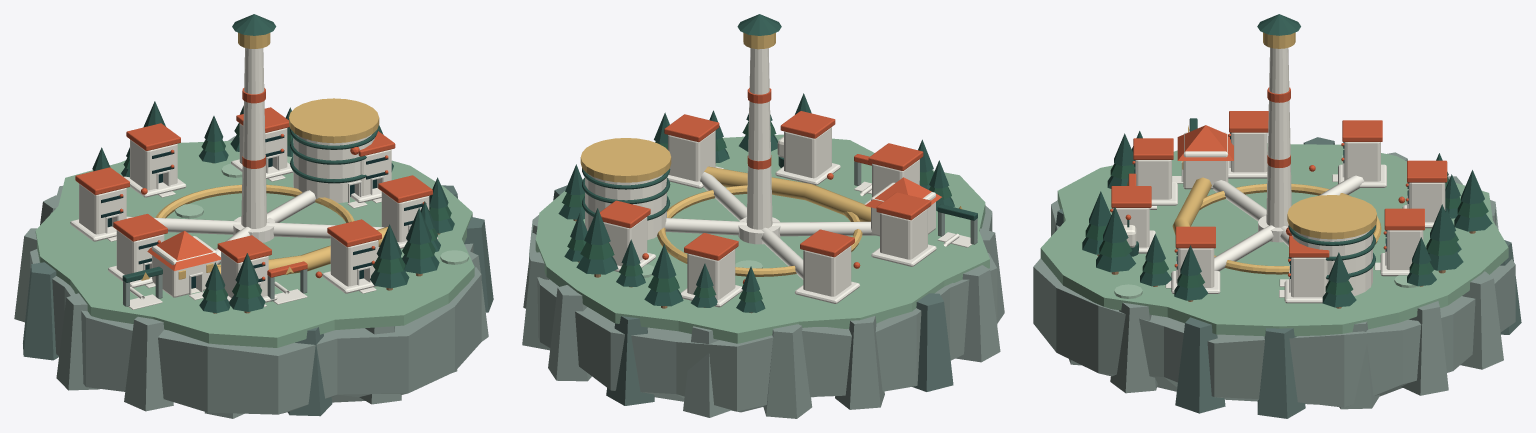
The model's file is chapter-16.glb.
3 views of the same model, side by side, from view 1: azimuth 30°, elevation 25°; view 2: azimuth 150°, elevation 25°; view 3: azimuth 270°, elevation 25° (orthographic).
Parts seen in each view (by area): view 1: terrain, rock_base, beacon, vault_cap_0, cliff_facet_10, landmark_replicas_0, cliff_facet_08, cliff_facet_09, server_2, server_6, server_3, landmark_ingress (+37 smaller); view 2: terrain, rock_base, beacon, cliff_facet_06, vault_cap_0, cliff_facet_07, cliff_facet_08, cliff_facet_09, cliff_facet_03, landmark_queue, landmark_replicas_0, server_3 (+36 smaller); view 3: terrain, rock_base, beacon, vault_cap_0, cliff_facet_00, cliff_facet_16, cliff_facet_03, cliff_facet_02, cliff_facet_15, landmark_replicas_0, horizon_ring, roof_ingress (+34 smaller).
Boxes of the visible parts, x1,y1,x2,y2 form: terrain: (35,141,474,347); rock_base: (30,186,481,414); beacon: (241,48,266,228); vault_cap_0: (289,98,379,143); cliff_facet_10: (124,316,173,411); landmark_replicas_0: (293,134,374,202); cliff_facet_08: (23,262,58,360); cliff_facet_09: (56,293,99,390); server_2: (130,139,177,190); server_6: (330,235,378,286); server_3: (79,183,126,234); landmark_ingress: (152,236,216,297); terrain: (535,134,989,343); rock_base: (529,205,997,412); beacon: (746,48,772,229); cliff_facet_06: (763,324,812,418); vault_cap_0: (580,138,671,182); cliff_facet_07: (835,316,884,409); cliff_facet_08: (912,293,953,391); cliff_facet_09: (955,265,1000,362); cliff_facet_03: (548,285,591,381); landmark_queue: (704,166,870,221); landmark_replicas_0: (585,174,666,239); server_3: (803,246,851,296); terrain: (1040,143,1508,336); rock_base: (1033,200,1515,407); beacon: (1266,47,1291,227); vault_cap_0: (1287,195,1376,239); cliff_facet_00: (1257,328,1305,418); cliff_facet_16: (1175,317,1225,413); cliff_facet_03: (1460,271,1503,369); cliff_facet_02: (1401,301,1448,395); cliff_facet_15: (1110,302,1157,393); landmark_replicas_0: (1292,230,1372,295); horizon_ring: (1199,183,1381,274); roof_ingress: (1177,125,1233,160).
Size of the model in its own units: 11.92 by 8.6 by 11.98.
